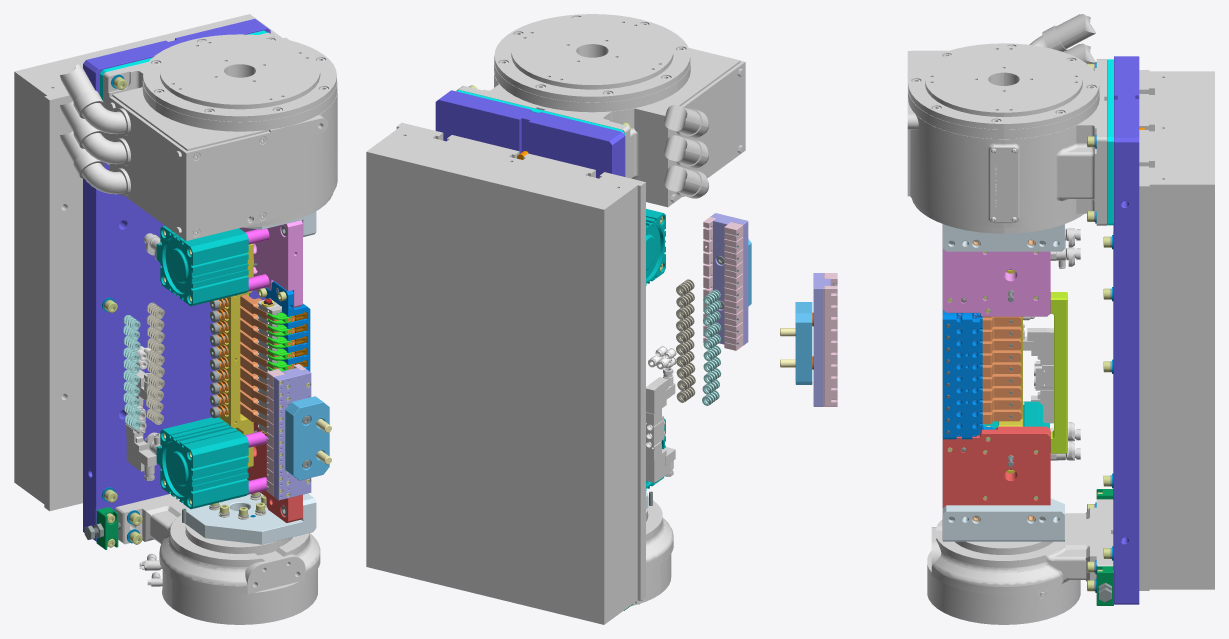
File: 2401003537_EMP-HB-C1-01_Main_Assembly_HB_Rev-A.glb
3 views of the same model, side by side, from view 1: azimuth 30°, elevation 25°; view 2: azimuth 150°, elevation 25°; view 3: azimuth 270°, elevation 25° (orthographic). The views are drawn at different scales.
Visible parts, largest first — view 1: object 22, 2401003472_A_1-DDR BASEPLATE-EMP-HB-C1-01-04-001, SOLID, 2401003503_A_1-DDR SIDE MOUNT PLATE-EMP-HB-C1-01-06-001, 2401003508_A_1-Clamp Support-EMP-HB-C1-01-06-005, 2401003493_A_1-FEEDER SPINDLE MOUNT PLATE-EMP-HB-C1-01-05-00, 2401003454_A_1-Cylinder Mount Plate-EMP-HB-C1-01-01-014, 2401003483_A_2-FEEDER END SUPPORT BLOCK-EMP-HB-C1-01-05-003, 2401003546_A_1-Moving Block-EMP-HB-C1-01-01-009, 2500020365_A_1-COIL SPRING-SWC16-25, 2500020363_A_1-Dowel Pin-ISO 2338 6m6x12, 2500020349_A_1-Socket Head Allen Screw-ISO 4762 M8X140 (+9 smaller); view 2: object 22, 2401003472_A_1-DDR BASEPLATE-EMP-HB-C1-01-04-001, 2401003485_A_1-Part Break Block-EMP-HB-C1-01-05-004, 2401003483_A_2-FEEDER END SUPPORT BLOCK-EMP-HB-C1-01-05-003, 2500020365_A_1-COIL SPRING-SWC16-25, 2500020366_A_1-COIL SPRING-SWS14.5-25, SOLID; view 3: object 22, 2401003472_A_1-DDR BASEPLATE-EMP-HB-C1-01-04-001, 2401003516_A_1-Cylinder Mount Plate-2-EMP-HB-C1-01-01-002, 2401003503_A_1-DDR SIDE MOUNT PLATE-EMP-HB-C1-01-06-001, 2401003454_A_1-Cylinder Mount Plate-EMP-HB-C1-01-01-014, 2401003461_A_1-Component Locator Plate_Button-EMP-HB-C1-01-0, 2401003508_A_1-Clamp Support-EMP-HB-C1-01-06-005, 2401003541_A_1-End Stopper Plate-1-EMP-HB-C1-01-01-001, 2401003485_A_1-Part Break Block-EMP-HB-C1-01-05-004, 2401003483_A_2-FEEDER END SUPPORT BLOCK-EMP-HB-C1-01-05-003, 2401003493_A_1-FEEDER SPINDLE MOUNT PLATE-EMP-HB-C1-01-05-00, 2401003532_A_1-DDR SPACER-EMP-HB-C1-01-04-002 (+4 smaller).
Part boxes in pixels (x1=…): object 22: x1=14, y1=14, x2=337, y2=624; 2401003472_A_1-DDR BASEPLATE-EMP-HB-C1-01-04-001: x1=83, y1=19, x2=270, y2=541; SOLID: x1=156, y1=226, x2=248, y2=509; 2401003503_A_1-DDR SIDE MOUNT PLATE-EMP-HB-C1-01-06-001: x1=185, y1=211, x2=316, y2=544; 2401003508_A_1-Clamp Support-EMP-HB-C1-01-06-005: x1=240, y1=294, x2=279, y2=427; 2401003493_A_1-FEEDER SPINDLE MOUNT PLATE-EMP-HB-C1-01-05-00: x1=285, y1=396, x2=329, y2=480; 2401003454_A_1-Cylinder Mount Plate-EMP-HB-C1-01-01-014: x1=239, y1=220, x2=302, y2=307; 2401003483_A_2-FEEDER END SUPPORT BLOCK-EMP-HB-C1-01-05-003: x1=273, y1=368, x2=311, y2=500; 2401003546_A_1-Moving Block-EMP-HB-C1-01-01-009: x1=218, y1=244, x2=253, y2=467; 2500020365_A_1-COIL SPRING-SWC16-25: x1=145, y1=302, x2=266, y2=519; 2500020363_A_1-Dowel Pin-ISO 2338 6m6x12: x1=84, y1=76, x2=310, y2=540; 2500020349_A_1-Socket Head Allen Screw-ISO 4762 M8X140: x1=104, y1=77, x2=310, y2=547; object 22: x1=366, y1=14, x2=745, y2=624; 2401003472_A_1-DDR BASEPLATE-EMP-HB-C1-01-04-001: x1=435, y1=90, x2=625, y2=178; 2401003485_A_1-Part Break Block-EMP-HB-C1-01-05-004: x1=703, y1=217, x2=743, y2=350; 2401003483_A_2-FEEDER END SUPPORT BLOCK-EMP-HB-C1-01-05-003: x1=710, y1=213, x2=748, y2=345; 2500020365_A_1-COIL SPRING-SWC16-25: x1=676, y1=279, x2=695, y2=402; 2500020366_A_1-COIL SPRING-SWS14.5-25: x1=702, y1=289, x2=721, y2=405; SOLID: x1=646, y1=209, x2=665, y2=490; object 22: x1=907, y1=14, x2=1214, y2=624; 2401003472_A_1-DDR BASEPLATE-EMP-HB-C1-01-04-001: x1=1113, y1=56, x2=1139, y2=604; 2401003516_A_1-Cylinder Mount Plate-2-EMP-HB-C1-01-01-002: x1=942, y1=426, x2=1050, y2=516; 2401003503_A_1-DDR SIDE MOUNT PLATE-EMP-HB-C1-01-06-001: x1=942, y1=224, x2=1064, y2=541; 2401003454_A_1-Cylinder Mount Plate-EMP-HB-C1-01-01-014: x1=942, y1=240, x2=1050, y2=316; 2401003461_A_1-Component Locator Plate_Button-EMP-HB-C1-01-0: x1=942, y1=310, x2=994, y2=439; 2401003508_A_1-Clamp Support-EMP-HB-C1-01-06-005: x1=982, y1=316, x2=1021, y2=424; 2401003541_A_1-End Stopper Plate-1-EMP-HB-C1-01-01-001: x1=1050, y1=292, x2=1067, y2=453; 2401003485_A_1-Part Break Block-EMP-HB-C1-01-05-004: x1=824, y1=273, x2=837, y2=406; 2401003483_A_2-FEEDER END SUPPORT BLOCK-EMP-HB-C1-01-05-003: x1=813, y1=273, x2=830, y2=406; 2401003493_A_1-FEEDER SPINDLE MOUNT PLATE-EMP-HB-C1-01-05-00: x1=795, y1=302, x2=812, y2=384; 2401003532_A_1-DDR SPACER-EMP-HB-C1-01-04-002: x1=1107, y1=59, x2=1113, y2=225.
Size of the model in its own units: 426 by 834 by 633.
